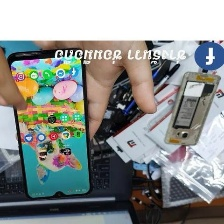phone: (3, 47, 95, 203), (161, 70, 224, 148)
